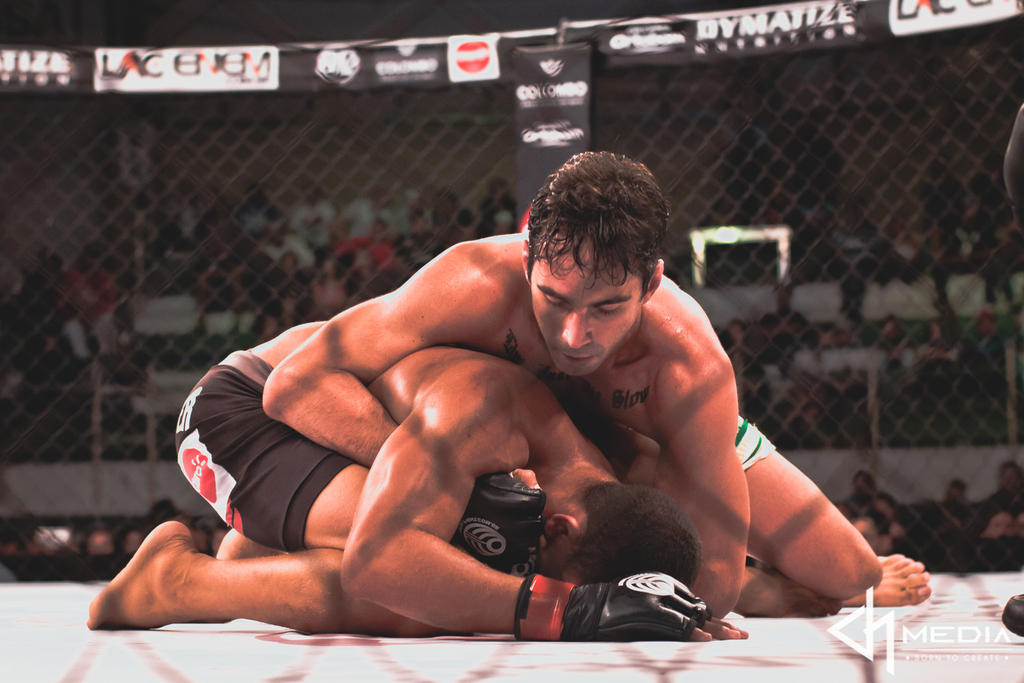person: (189, 225, 273, 366)
